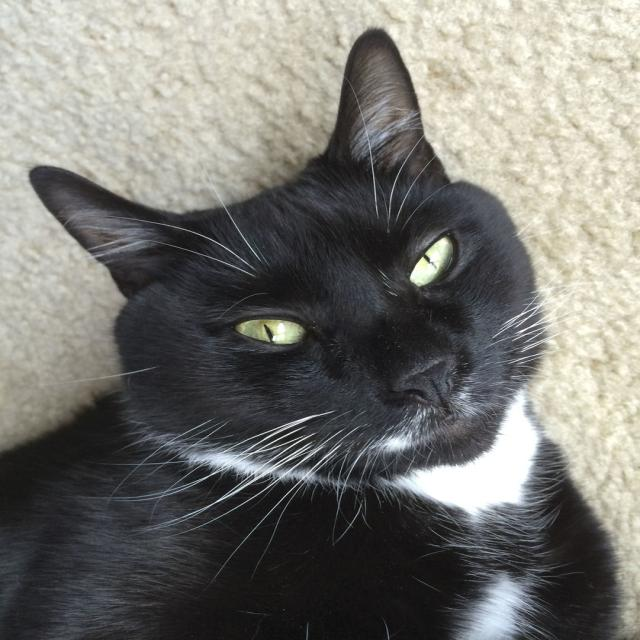Cat: (0, 21, 633, 639)
